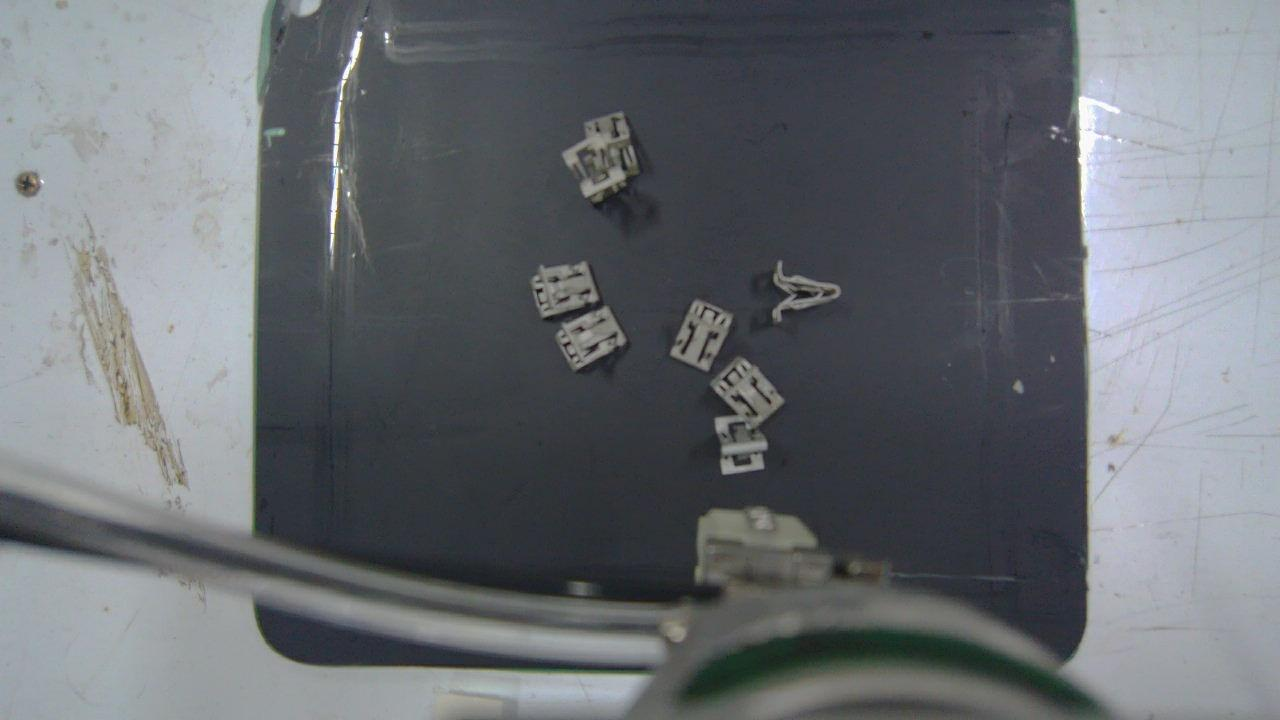ng: (711, 358, 785, 427), (553, 308, 627, 373), (671, 295, 732, 372), (561, 135, 624, 206), (772, 260, 840, 324), (530, 262, 601, 319), (585, 116, 641, 177)
pass: (715, 415, 767, 473)
